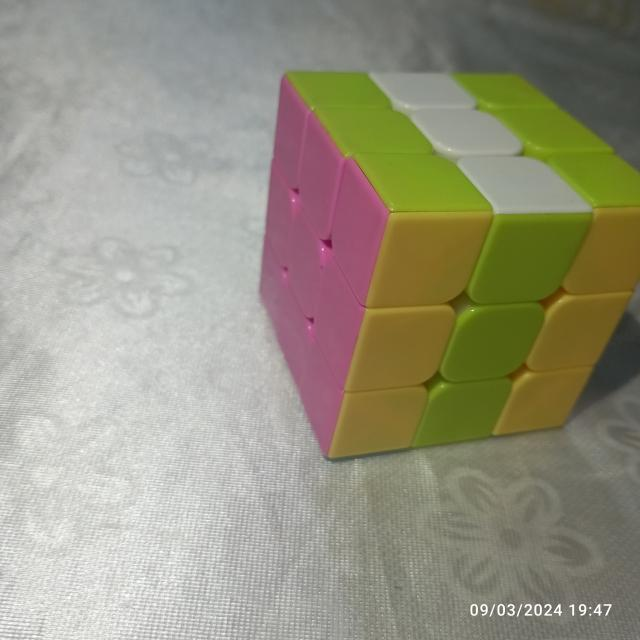Rub: (253, 69, 640, 464)
